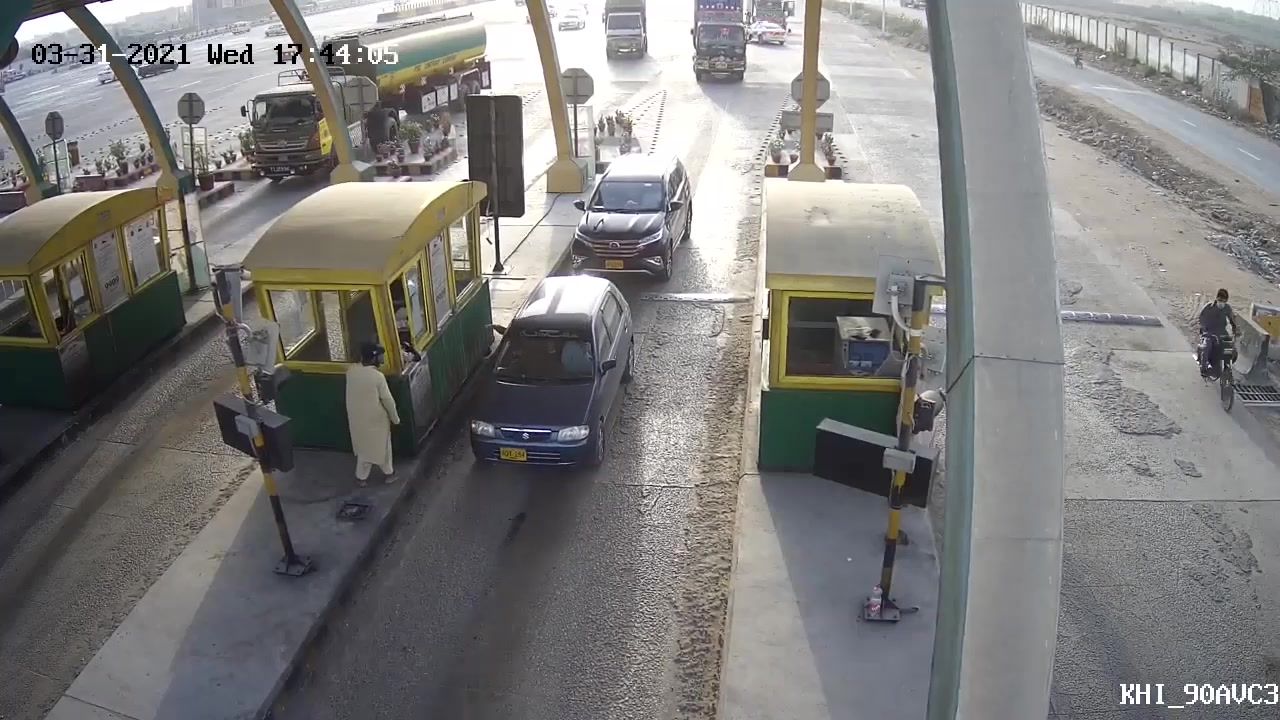F1: (456, 273, 643, 484), (570, 152, 698, 288)
